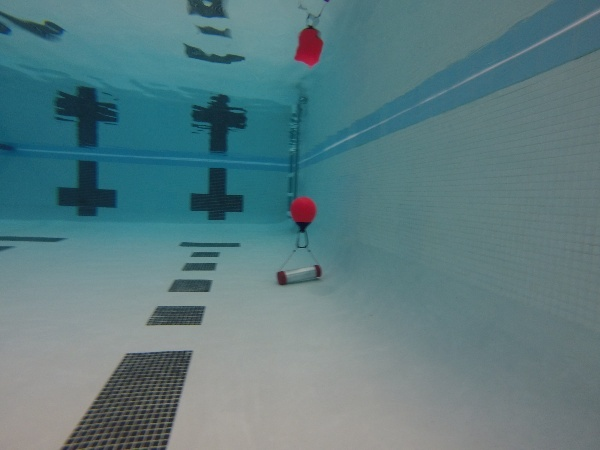buoy_red: (290, 197, 317, 231)
